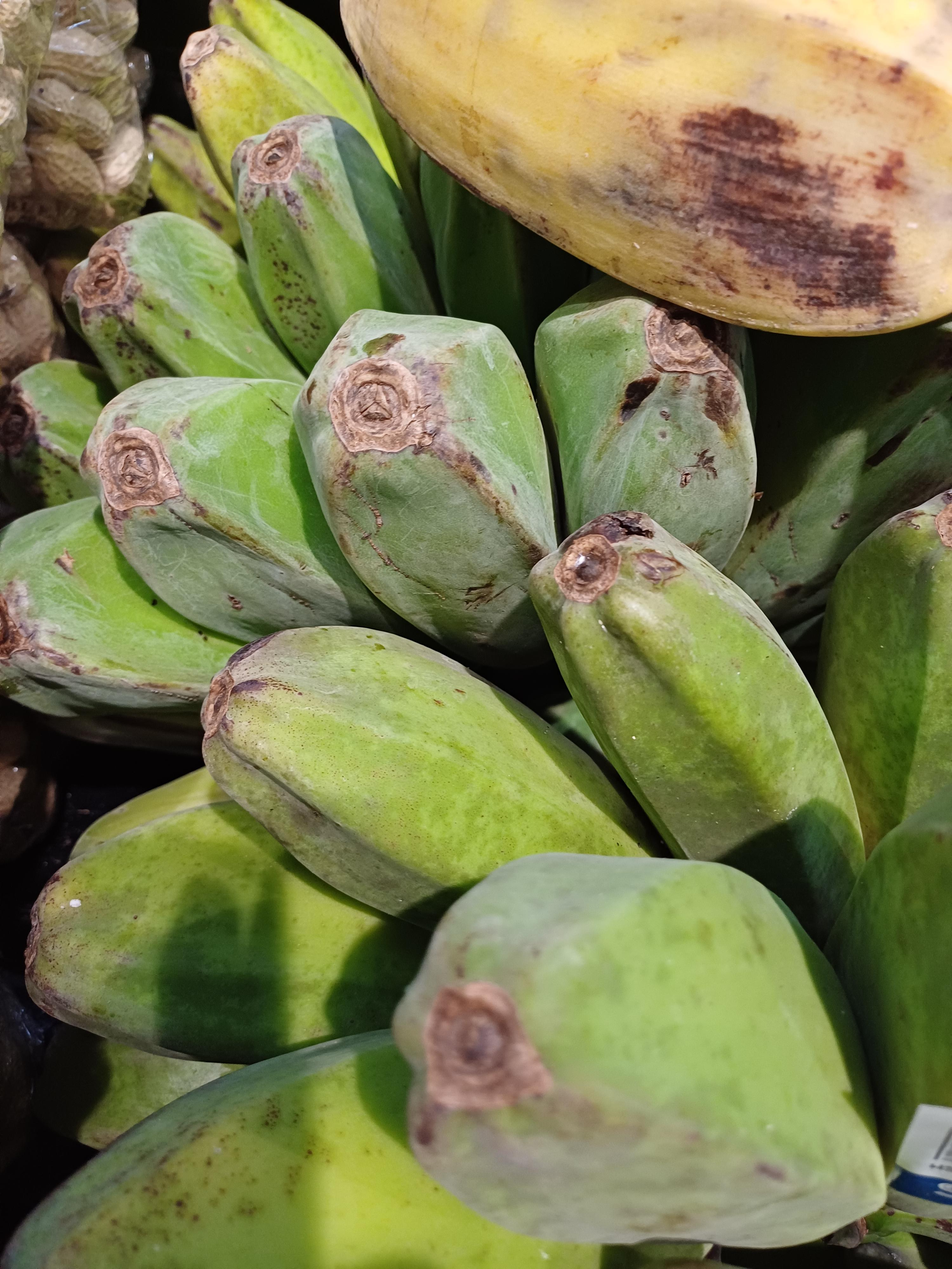underripe: (0, 494, 948, 1269), (0, 117, 952, 724)
